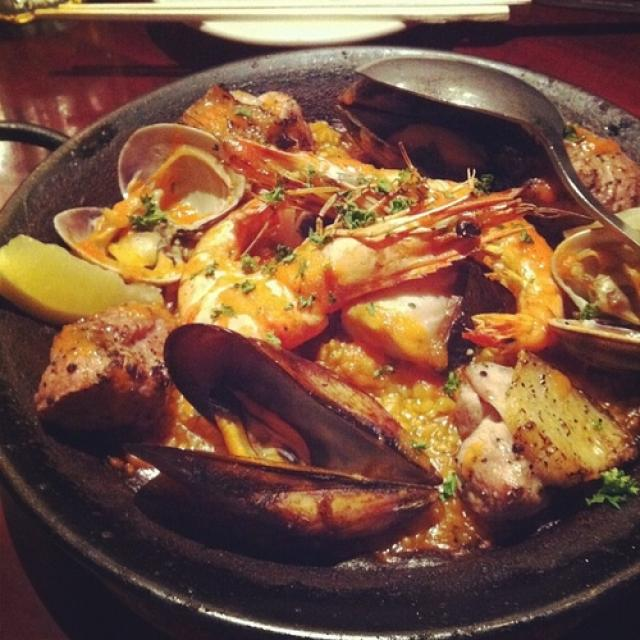面条主食: (180, 20, 640, 640)
